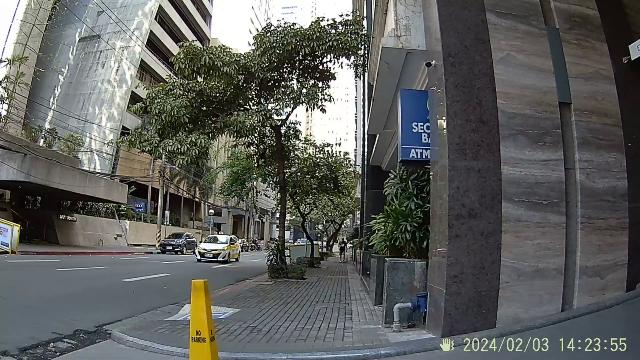car: (193, 232, 244, 264)
tree: (270, 144, 306, 282)
